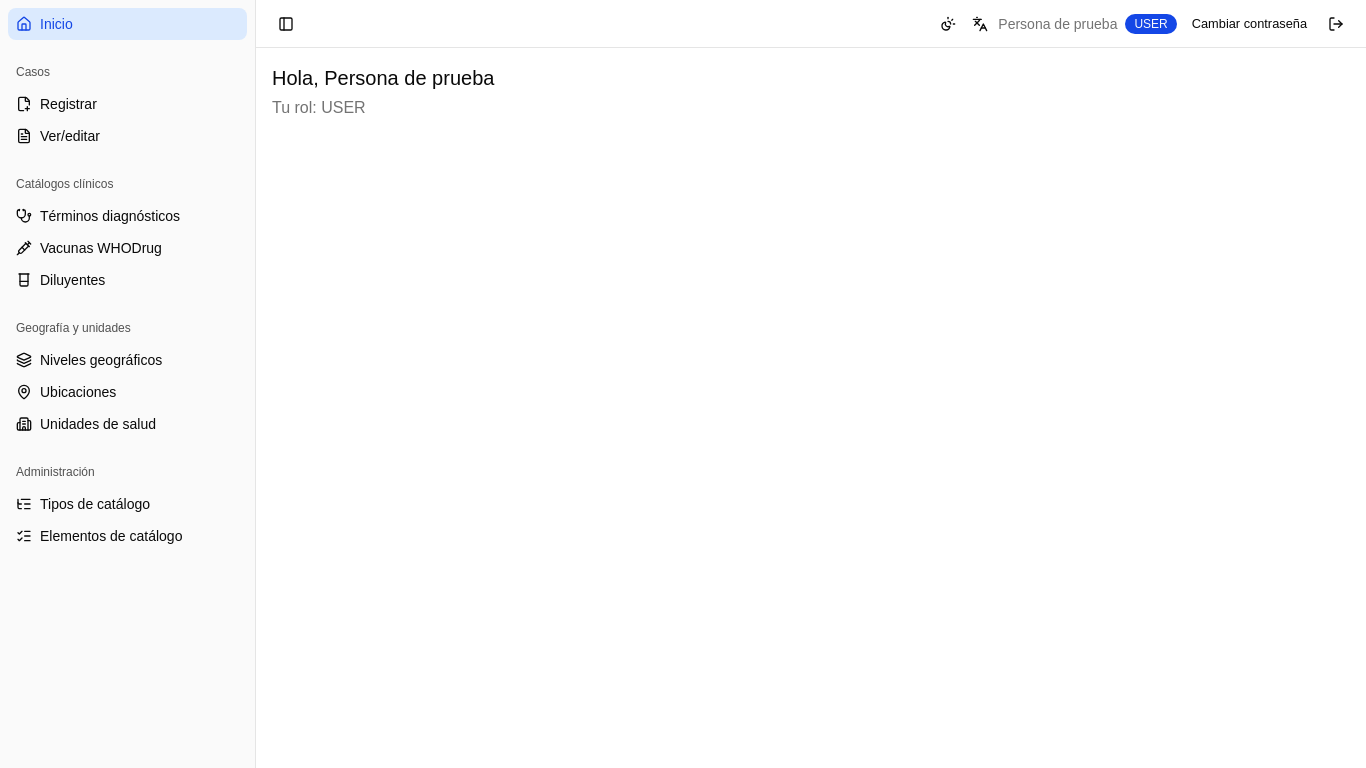
Ruta /whodrug-vaccines — navegación desde el sidebar › con USER, el ítem es un enlace y lleva al listado
Click the link "Vacunas WHODrug".
click(89, 248)  # box top-left (16, 240), bottom-right (162, 256)
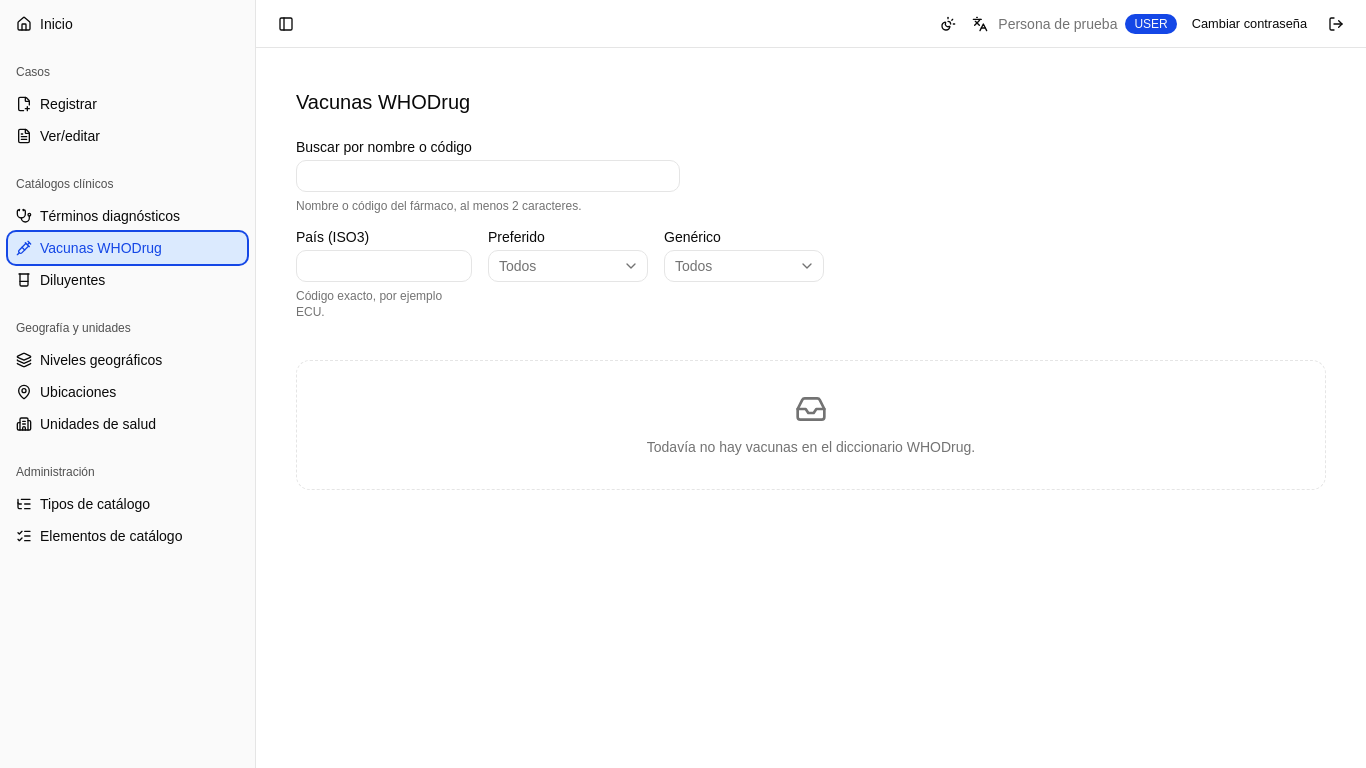
Expected: the heading "Vacunas WHODrug" is shown, top-left (296, 88), bottom-right (470, 116)
